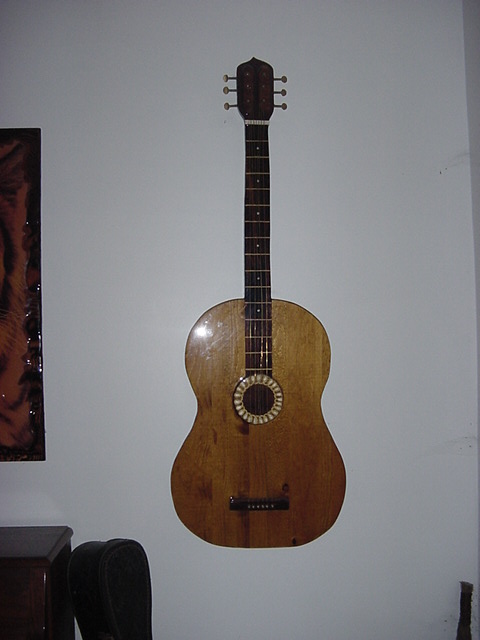guitar: (172, 56, 348, 551)
